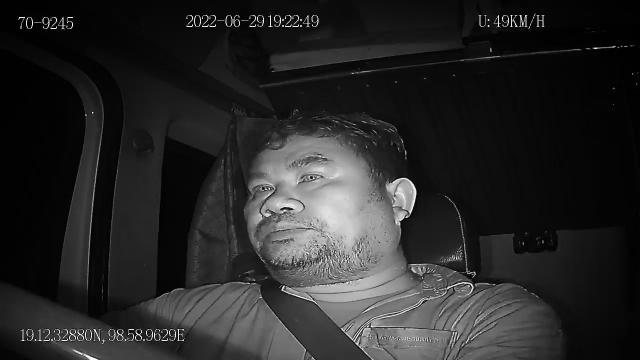SafeDriving: (294, 160, 332, 190), (246, 173, 280, 199)
Seatbelt: (258, 276, 376, 360)
